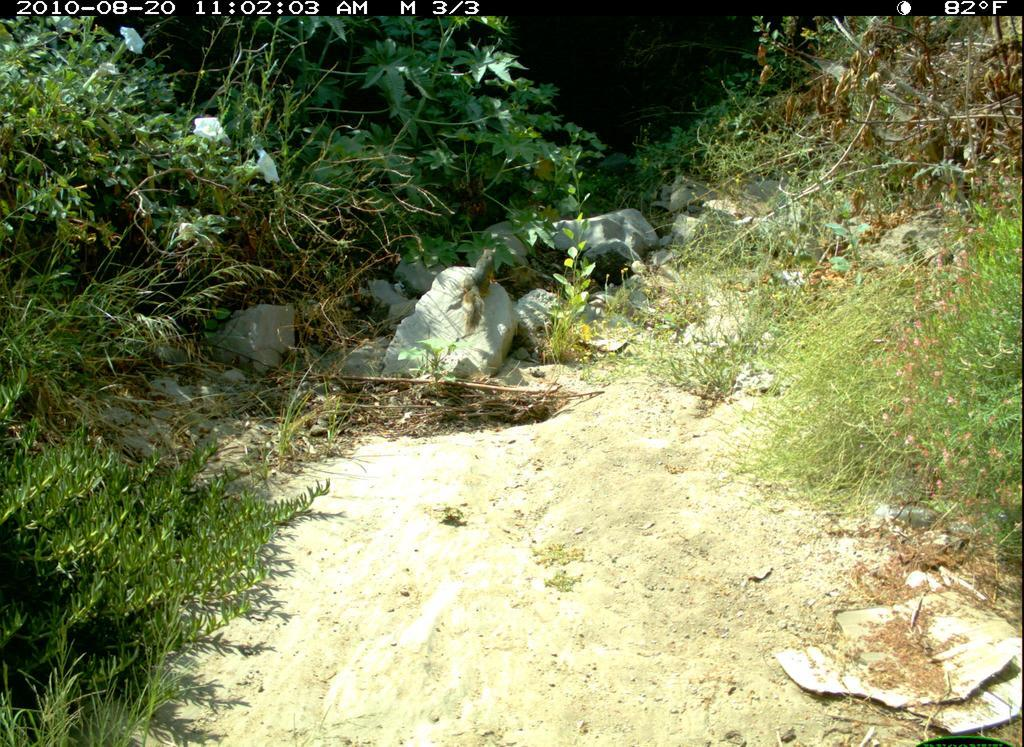squirrel: (452, 241, 524, 333)
